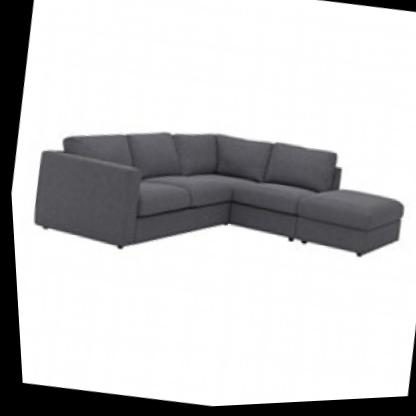Sofa: (8, 68, 416, 318)
